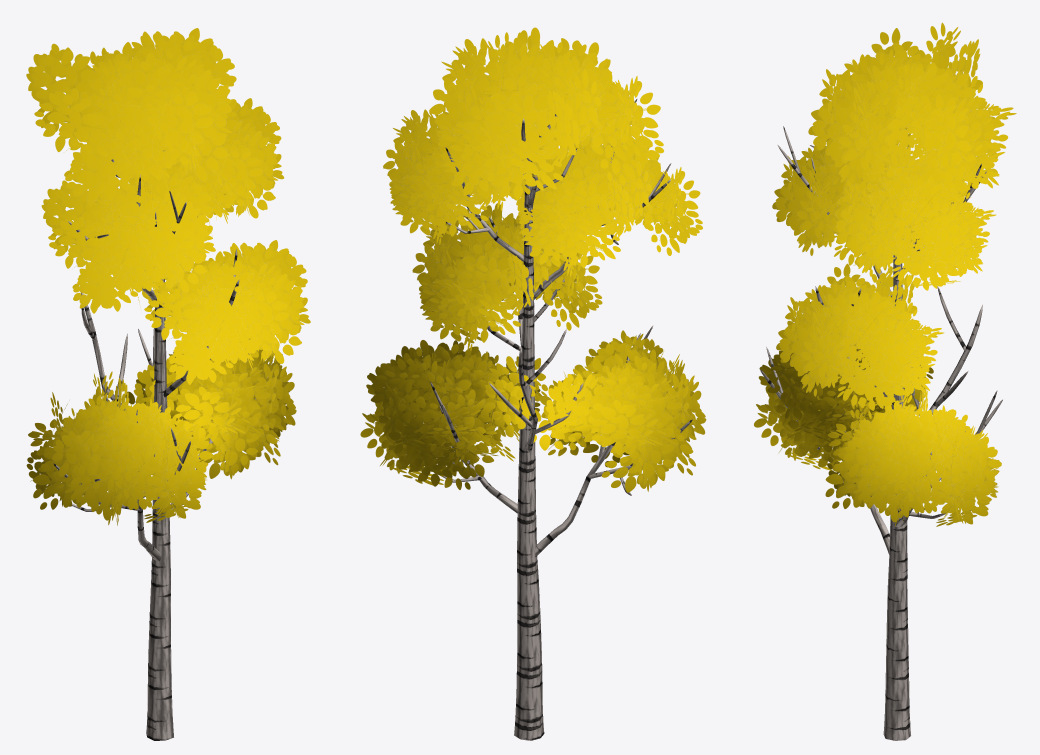
The model's file is prop_sn_birch_tree_2.glb.
The picture shows the model from 3 angles, left to right: view 1: azimuth 30°, elevation 25°; view 2: azimuth 150°, elevation 25°; view 3: azimuth 270°, elevation 25°; orthographic projection. The views are drawn at different scales.
Visible parts, largest first — view 1: BirchTree_2; view 2: BirchTree_2; view 3: BirchTree_2.
Boxes of the visible parts, left/top/right/bottom form: BirchTree_2: left=26, top=28, right=310, bottom=740; BirchTree_2: left=360, top=27, right=706, bottom=740; BirchTree_2: left=754, top=22, right=1016, bottom=740.
Size of the model in its own units: 3.35 by 7.57 by 2.81.
2 materials, 2 textured.
